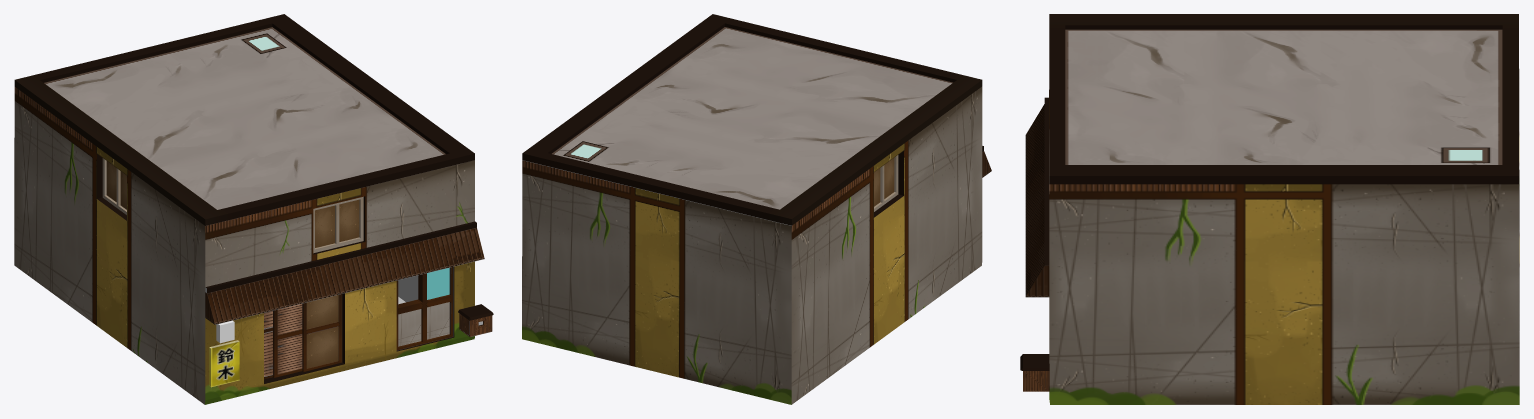
Rendered from House_Suzuki.fbx.
The picture shows the model from 3 angles, left to right: view 1: azimuth 30°, elevation 25°; view 2: azimuth 150°, elevation 25°; view 3: azimuth 270°, elevation 25°; orthographic projection. The views are drawn at different scales.
Parts seen in each view (by area): view 1: Cube.052; view 2: Cube.052; view 3: Cube.052.
Part boxes in pixels (x1,y1,x2,y2): Cube.052: [14, 14, 493, 404]; Cube.052: [522, 14, 991, 404]; Cube.052: [1020, 14, 1519, 404].
Size of the model in its own units: 893 by 571 by 1129.
